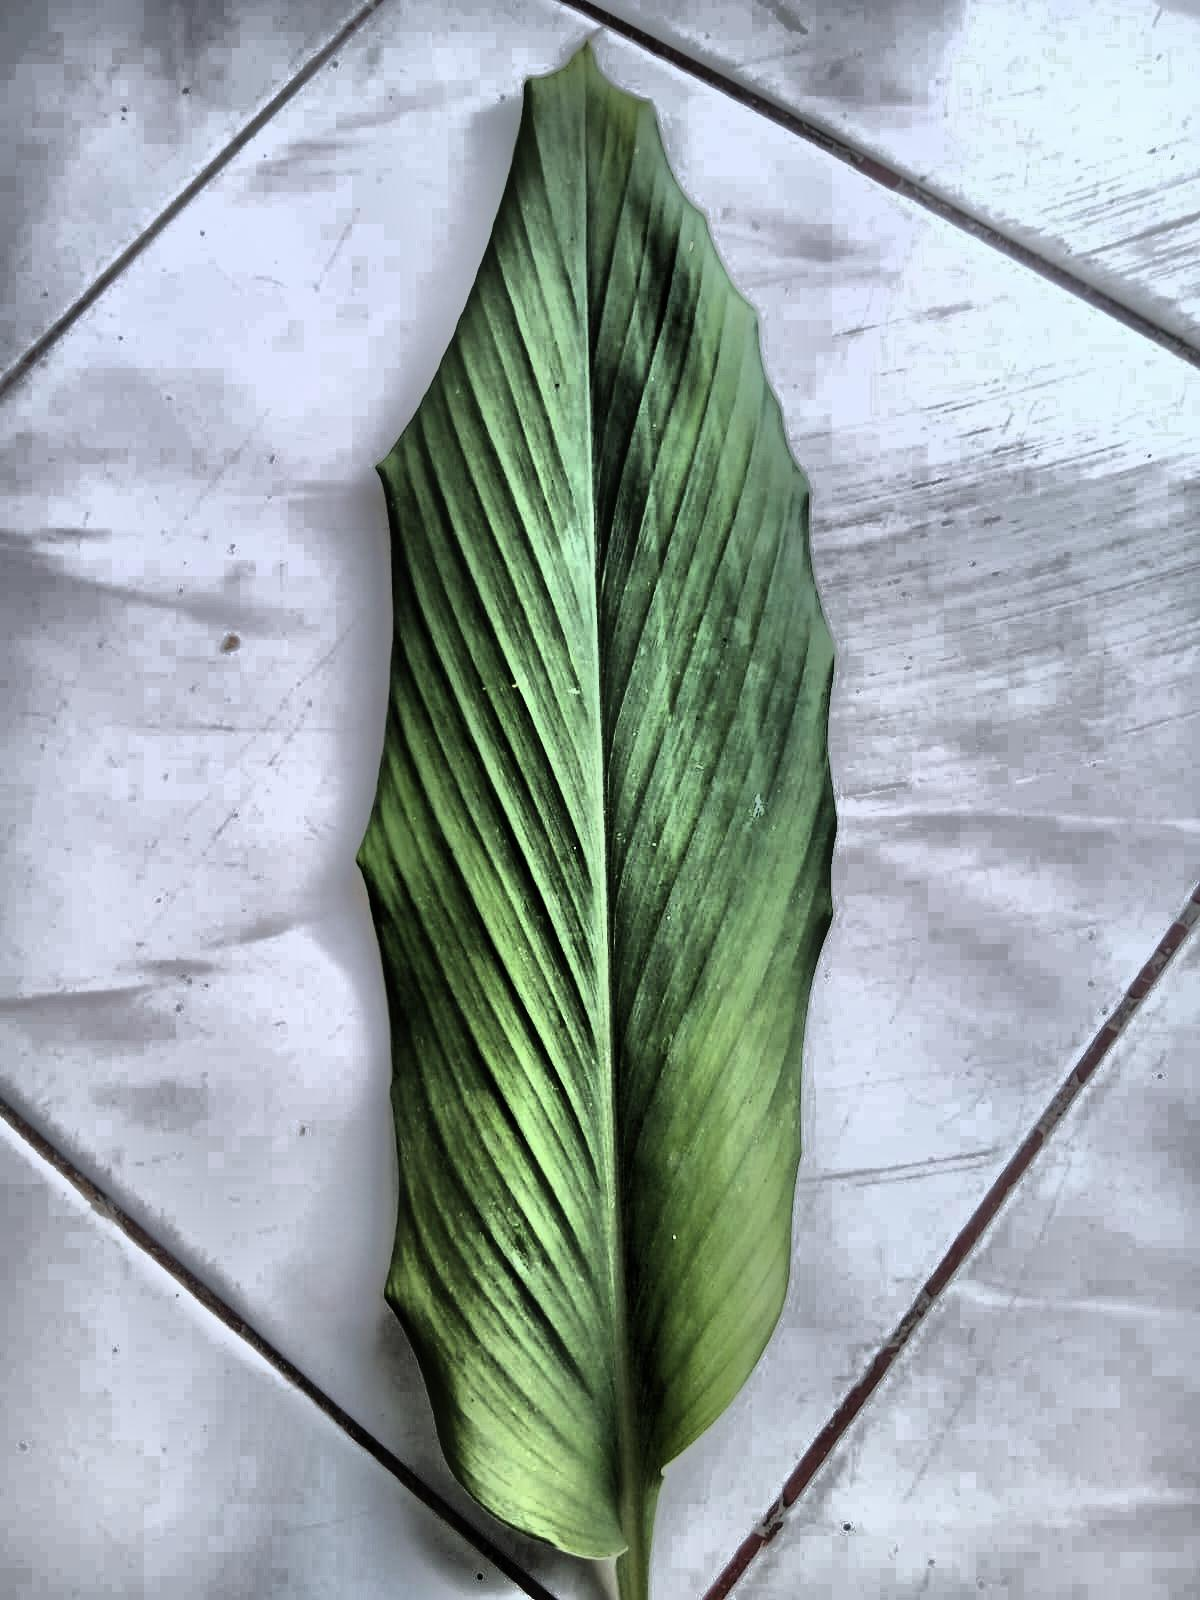daun kunyit: (358, 48, 834, 1599)
